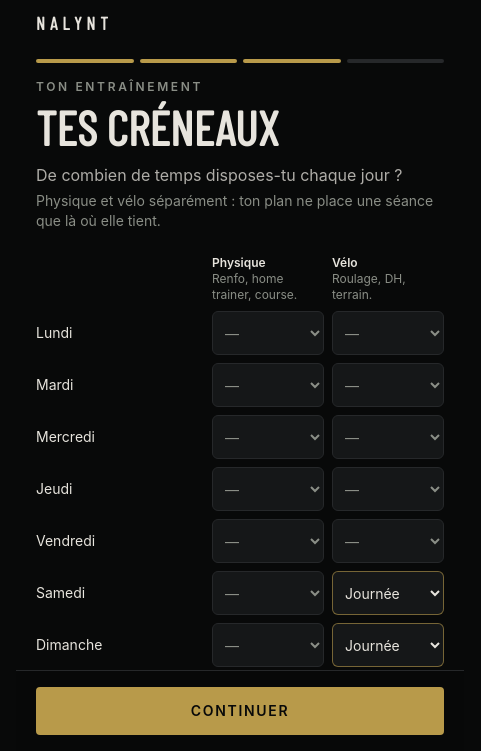
Test case: FirstRunSetup — the essentials › BUG-V2-1 — physical and riding time per day: riding days prefilled, saved as typed windows
Check: the heading reads "Tes créneaux", box [36,98,278,156]
Check: the text "De combien de temps disposes-tu chaque jour ?" is shown, box [36,163,444,187]
Select "1 h 30" in the dropdown named "Physique — Mardi" at (268,385), box [212,363,324,407]
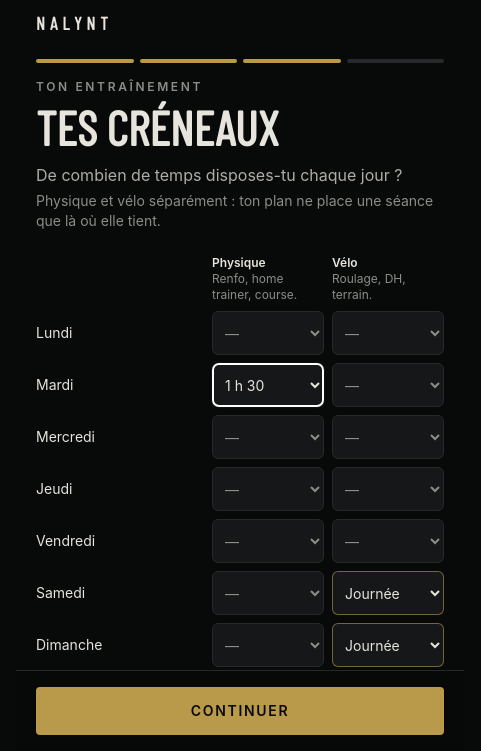
Select "45 min" in the dropdown named "Physique — Jeudi" at (268,489), box [212,467,324,511]
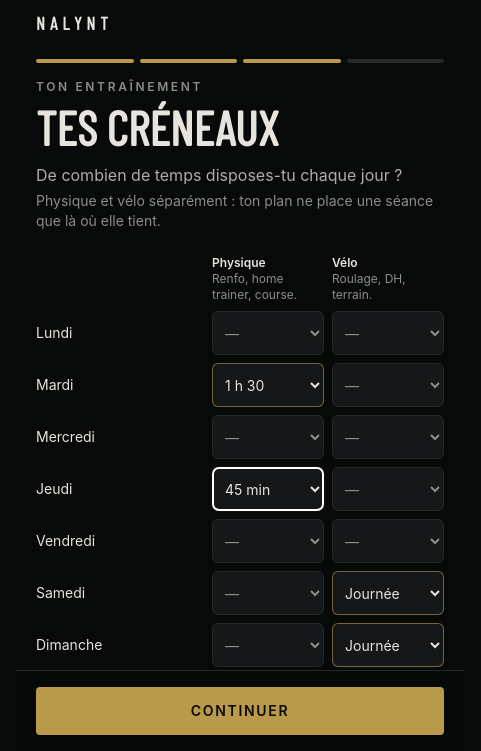
Click the button "Continuer" at (240,711), box [36,687,444,735]
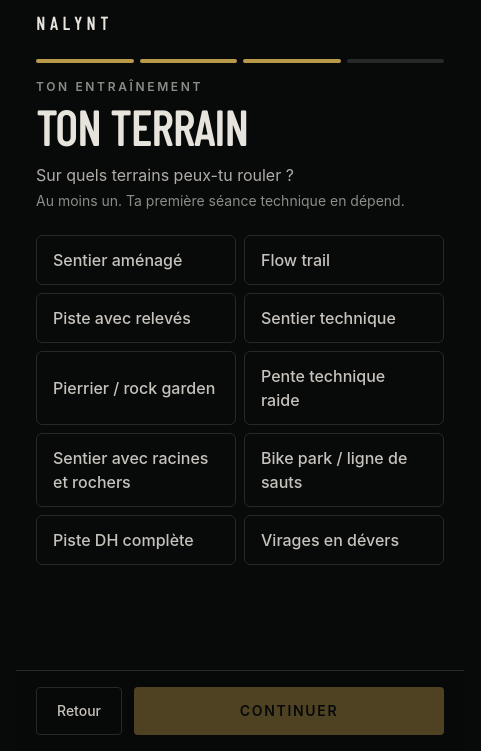
Check: the heading reads "Ton terrain", box [36,98,248,156]
